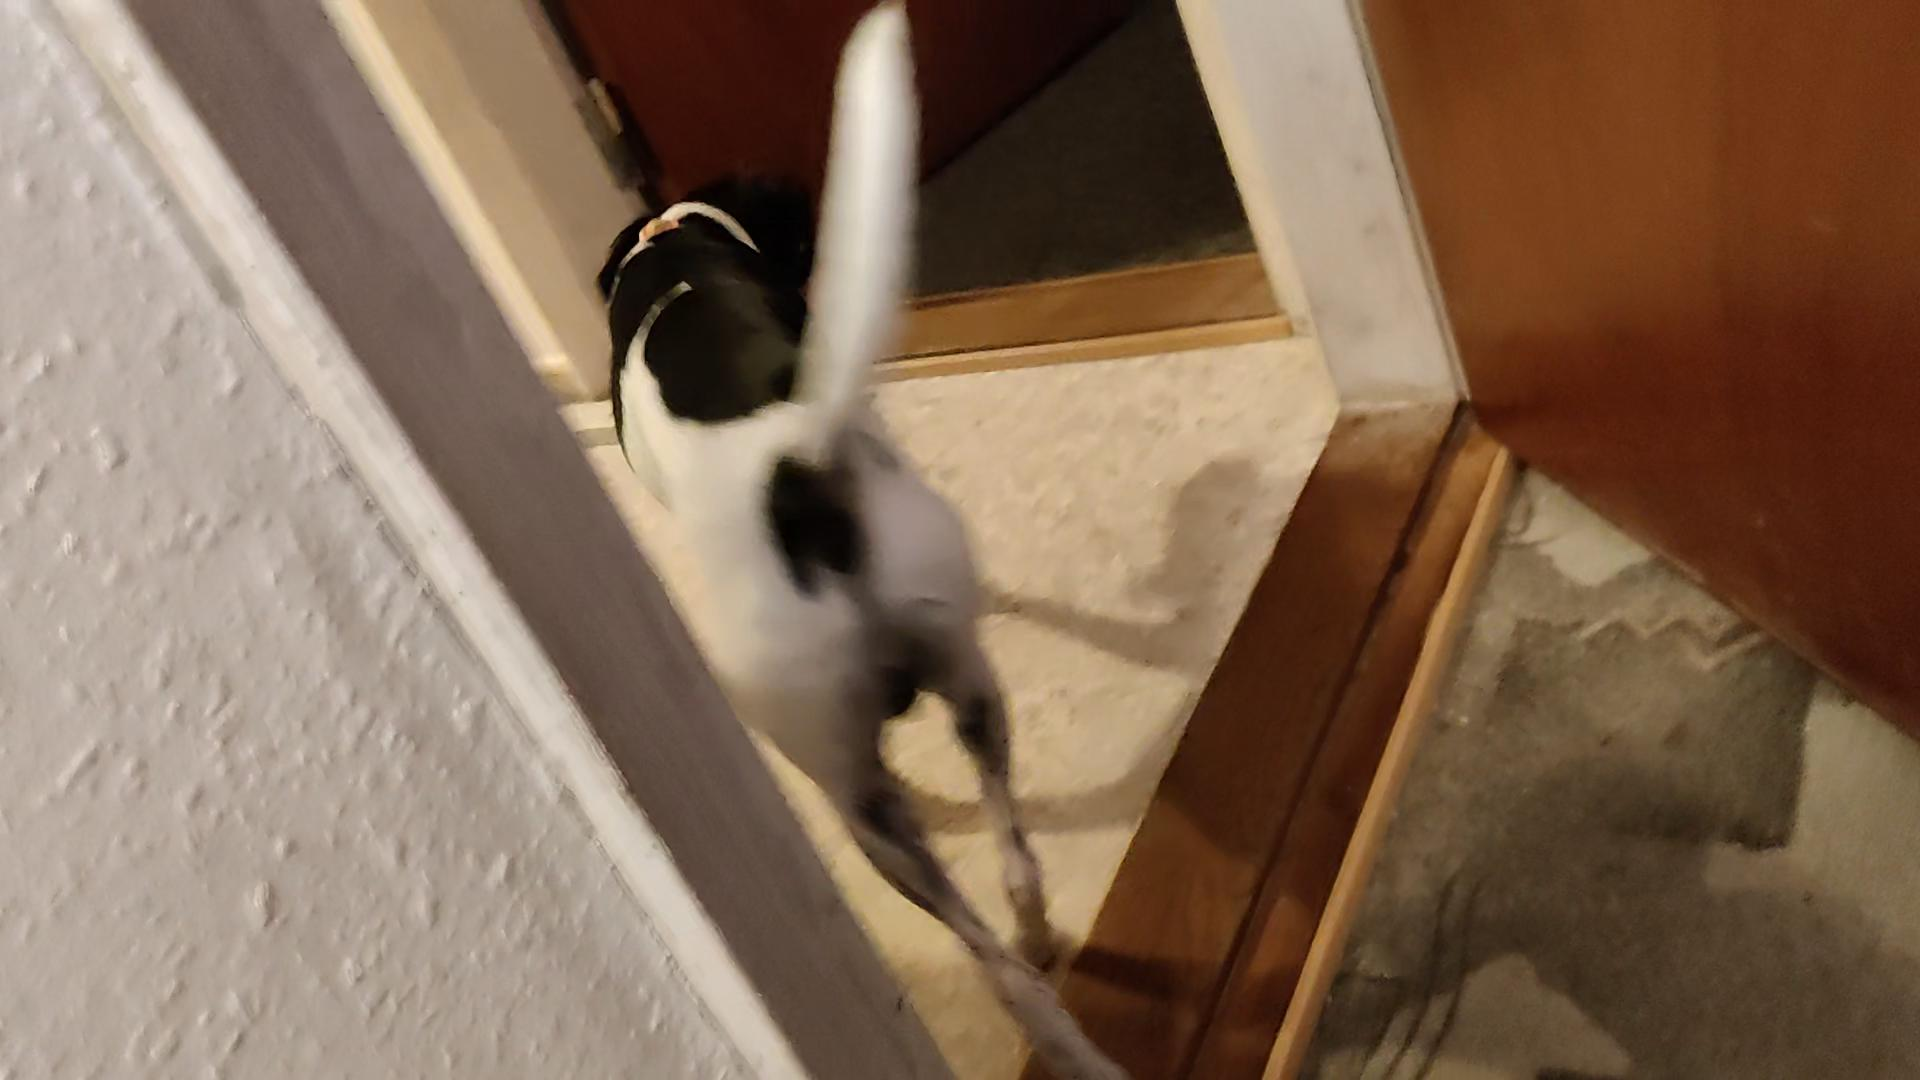Dog: (583, 0, 1139, 1079)
